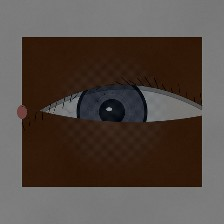hemorrhage_spot: (61, 98, 136, 158)
